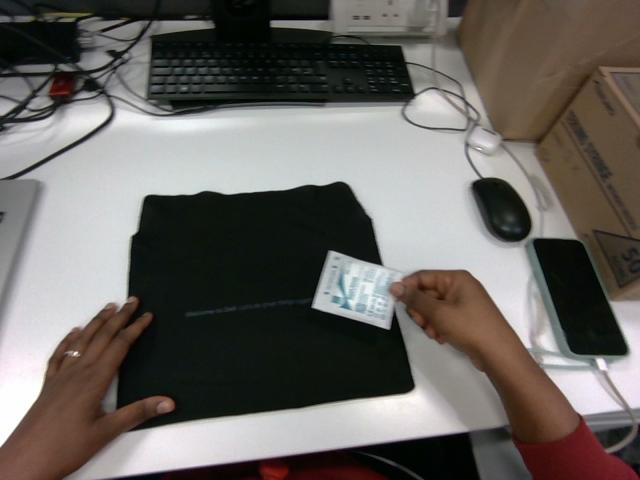gauze: (312, 251, 402, 329)
